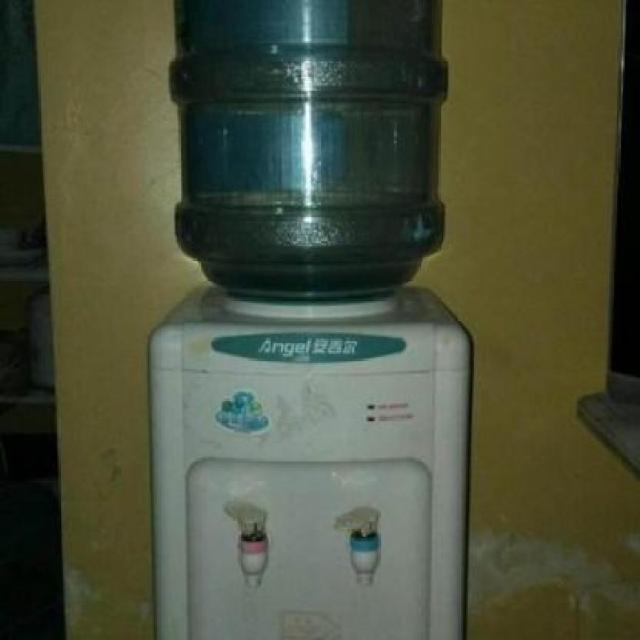coolerbottle: (164, 0, 452, 308)
